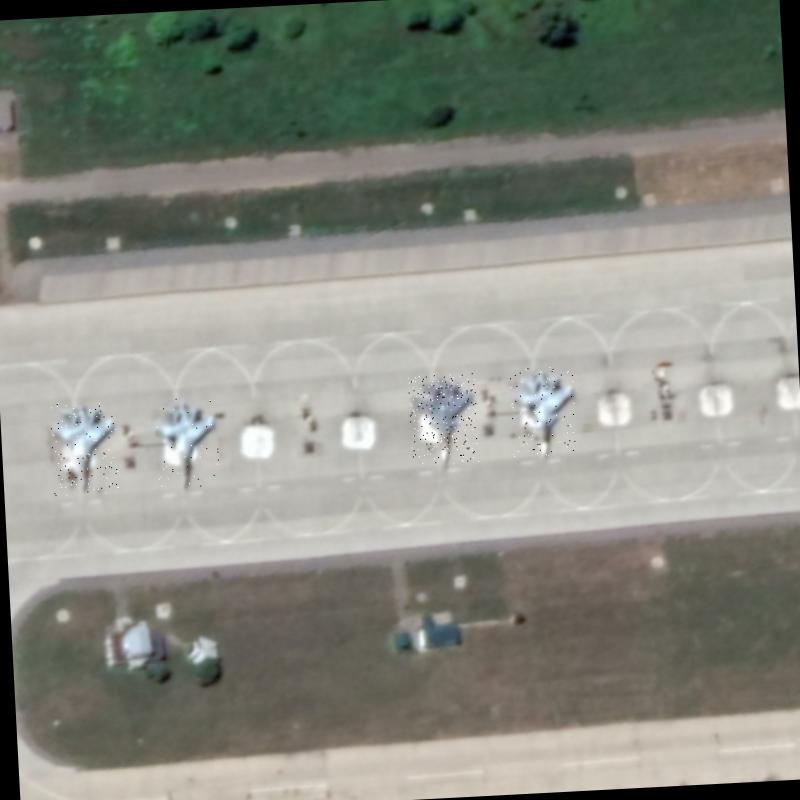A1: (50, 400, 119, 496), (152, 396, 220, 491)
A19: (407, 373, 480, 466), (510, 366, 580, 458)
